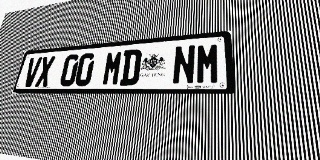0: (74, 53, 96, 86), (59, 54, 80, 86)
D: (119, 49, 142, 85)
M: (195, 42, 220, 84), (101, 50, 124, 86)
N: (172, 44, 196, 85)
V: (22, 57, 42, 87)
X: (35, 56, 55, 87)
